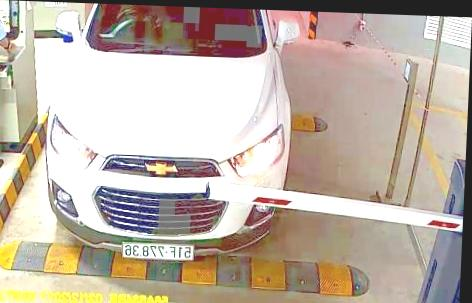License_Plate: (117, 236, 198, 264)
